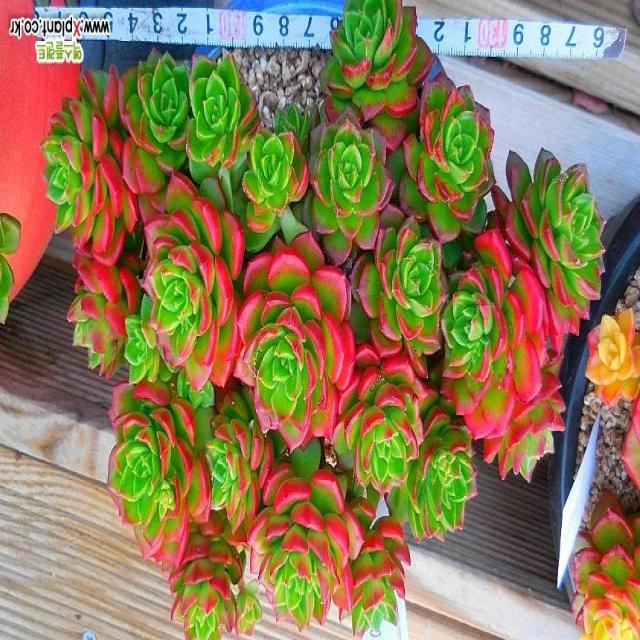Letizia: (235, 234, 354, 451), (440, 230, 546, 440), (249, 440, 364, 631), (144, 172, 244, 389), (505, 150, 604, 353), (41, 67, 139, 267), (321, 0, 432, 149), (351, 205, 446, 378), (399, 73, 494, 245), (386, 387, 478, 542), (332, 346, 425, 496), (310, 115, 394, 265), (206, 389, 272, 533), (186, 55, 259, 167), (351, 517, 410, 636), (125, 295, 160, 385)
